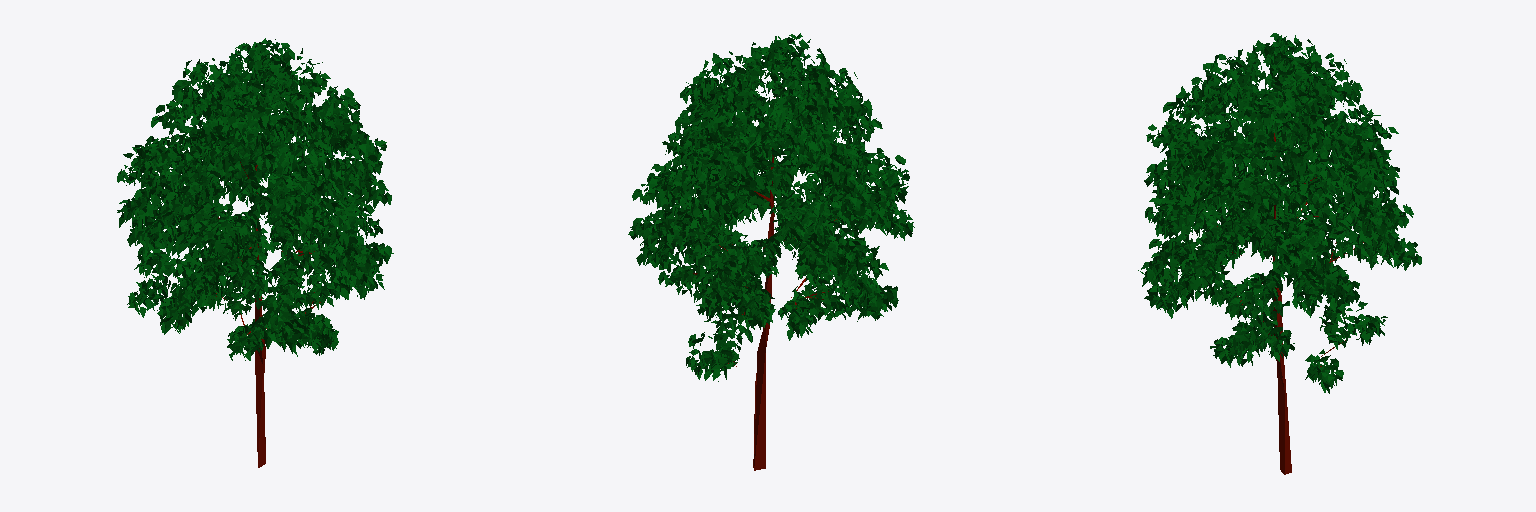
The model's file is birch_tree.obj.
The picture shows the model from 3 angles: view 1: azimuth 30°, elevation 25°; view 2: azimuth 150°, elevation 25°; view 3: azimuth 270°, elevation 25°; orthographic projection.
Visible parts, largest first — view 1: Tree.Birch; view 2: Tree.Birch; view 3: Tree.Birch.
Boxes of the visible parts, box(x1,y1,x2,y2) form: Tree.Birch: box(117, 38, 393, 467); Tree.Birch: box(628, 33, 914, 470); Tree.Birch: box(1138, 33, 1421, 474).
Size of the model in its own units: 2.39 by 3.9 by 2.36.